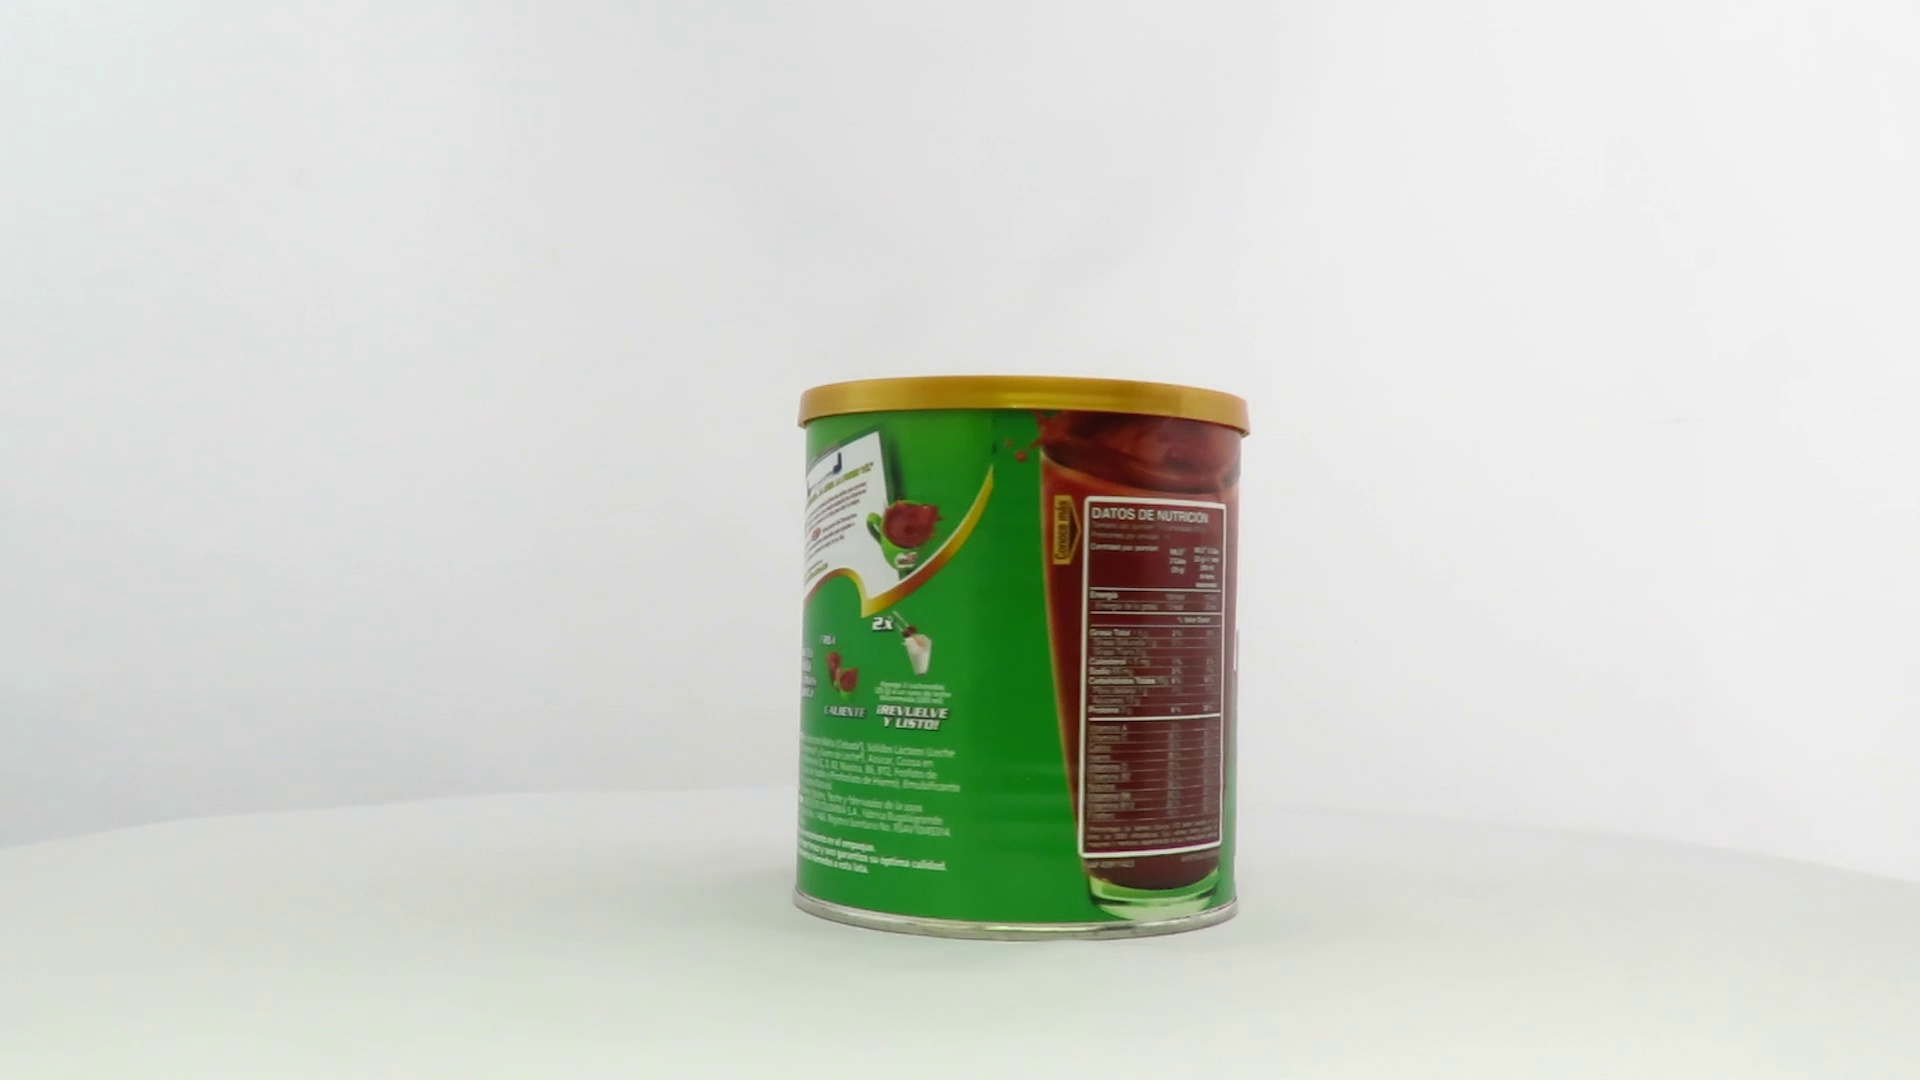COL0170203LAT40000: (786, 371, 1257, 948)
